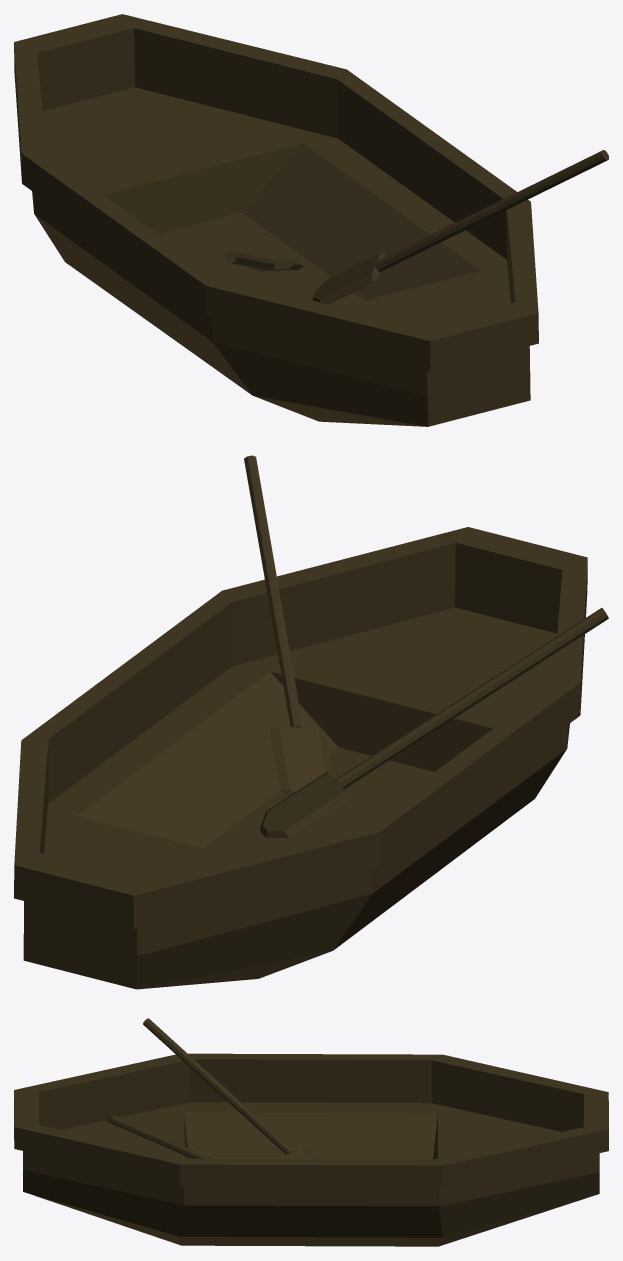
The model's file is Boat.fbx.
The picture shows the model from 3 angles, top to bottom: view 1: azimuth 30°, elevation 25°; view 2: azimuth 150°, elevation 25°; view 3: azimuth 270°, elevation 25°; orthographic projection. The views are drawn at different scales.
Visible parts, largest first — view 1: Boot.001; view 2: Boot.001; view 3: Boot.001.
Boxes of the visible parts, left/top/right/bottom form: Boot.001: left=14, top=14, right=608, bottom=426; Boot.001: left=14, top=455, right=608, bottom=989; Boot.001: left=14, top=1018, right=608, bottom=1246.
Bounding box in the file's own units: 172 × 116 × 346.
